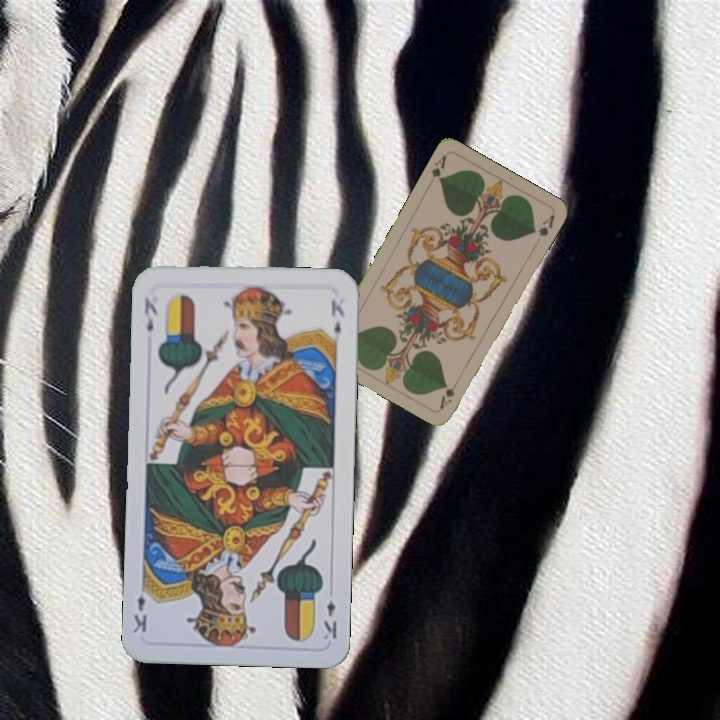EK: (319, 596, 340, 642), (140, 294, 160, 335)
GA: (427, 151, 449, 184), (436, 384, 457, 412)
